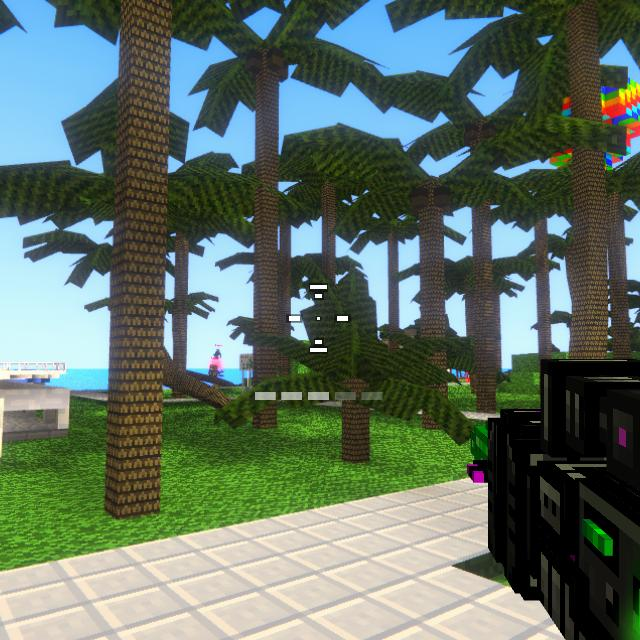Enemy: (209, 363, 220, 380)
